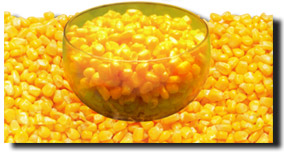corn: (3, 0, 274, 143)
